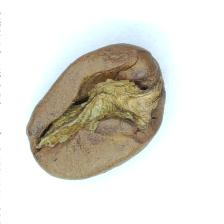NG: (38, 59, 161, 146)
